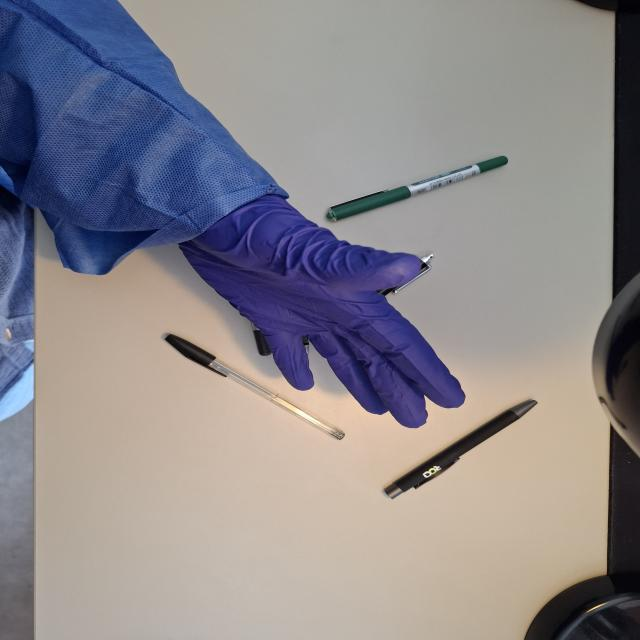glove_on: (172, 186, 469, 431)
